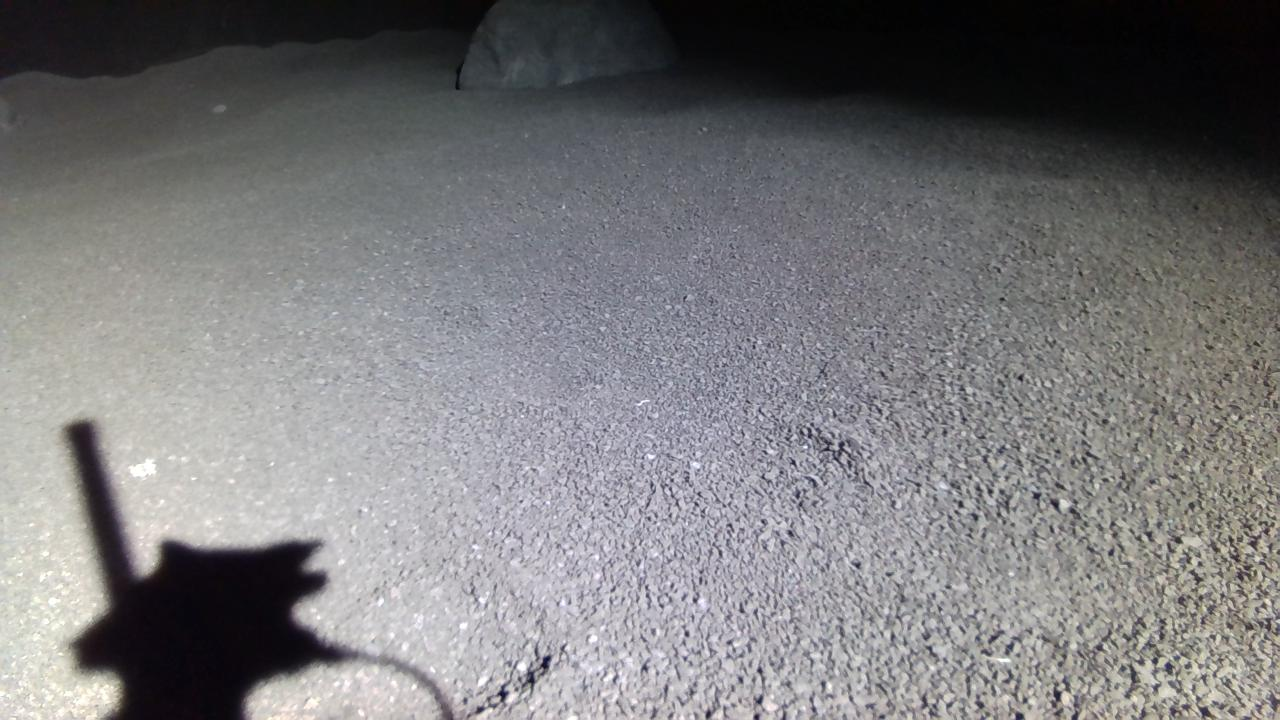rock: (458, 0, 677, 88)
